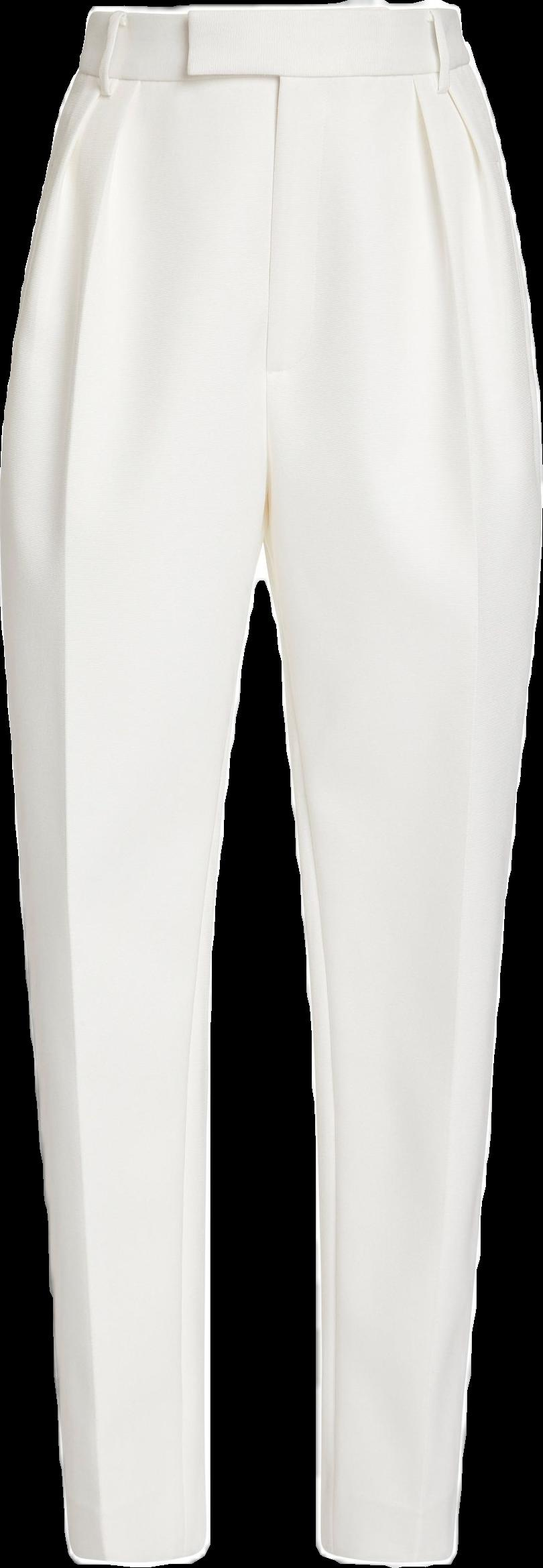Hemline: (309, 1536, 458, 1567), (63, 1539, 212, 1567)
Pantleg: (268, 0, 542, 1567), (0, 4, 267, 1565)
Waistline: (74, 50, 476, 91), (82, 0, 461, 31)
